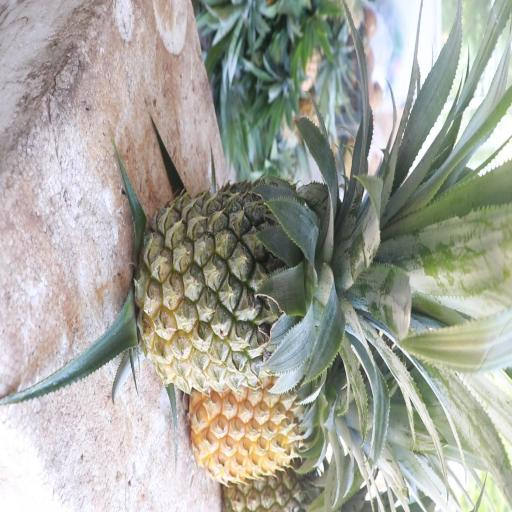------------------------------: (137, 189, 358, 386)
Pineapple - v8 v1: (188, 370, 320, 476)
